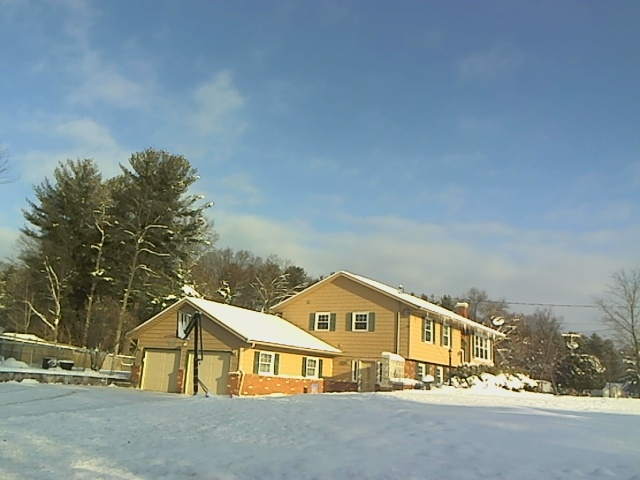Unploughed: (7, 387, 164, 411)
